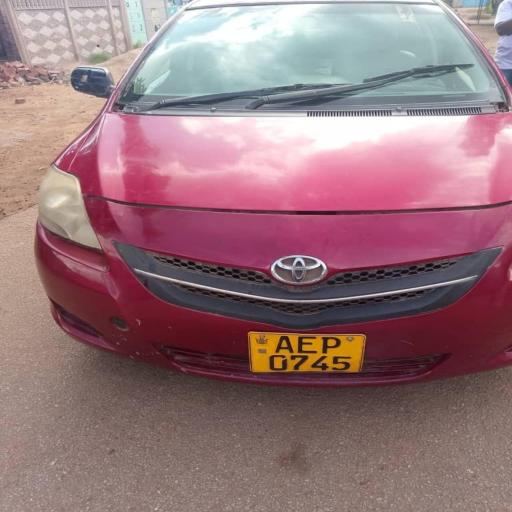number-plates: (248, 333, 369, 374)
